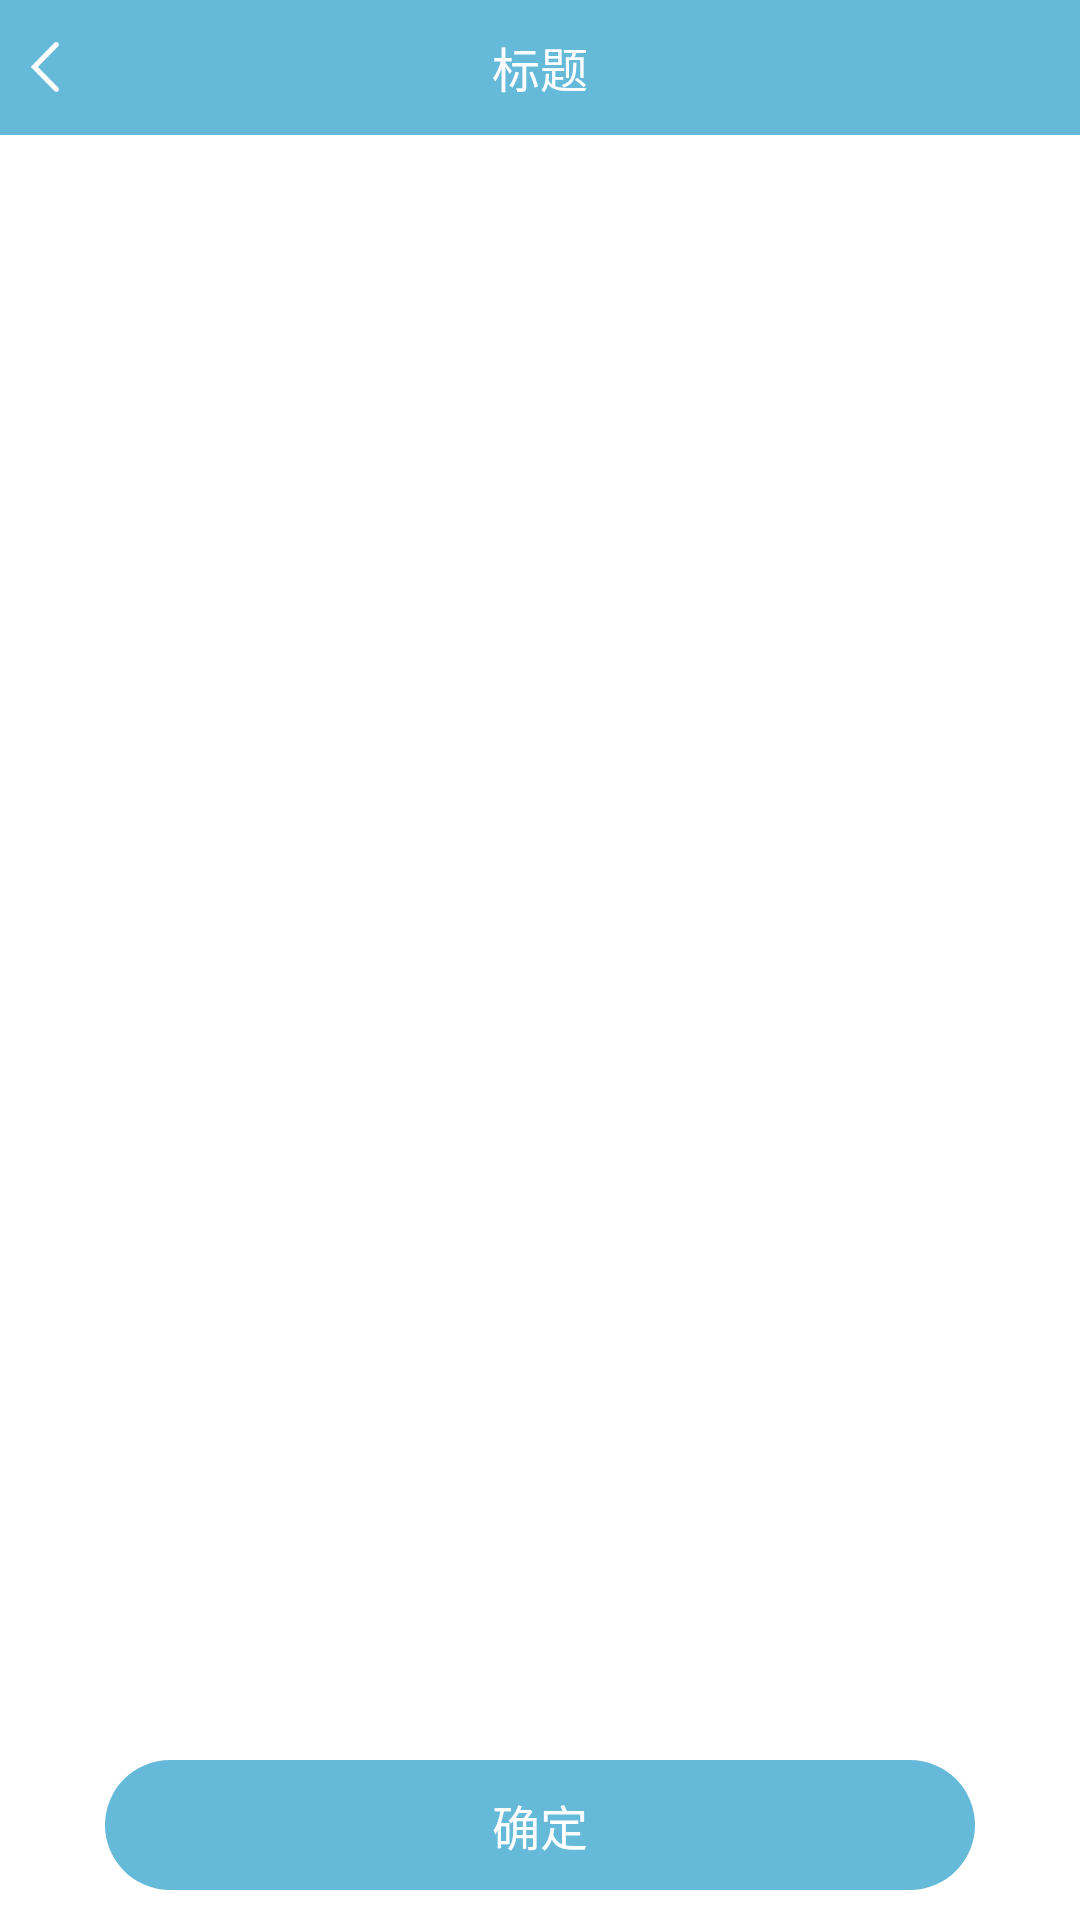

Icons on this 1080px×1920px Android screen, each with its box as (x1,y1,x2,y2):
back: (31,42,59,92)
